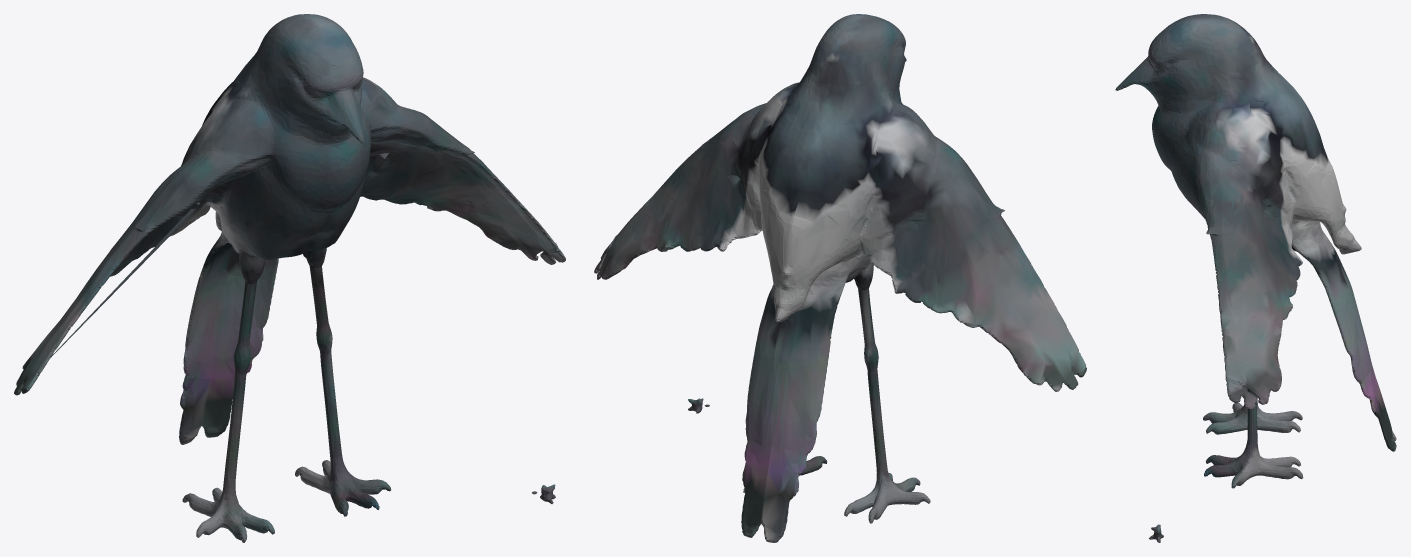
File: tally-color.glb
3 views of the same model, side by side, from view 1: azimuth 30°, elevation 25°; view 2: azimuth 150°, elevation 25°; view 3: azimuth 270°, elevation 25° (orthographic). The views are drawn at different scales.
Parts seen in each view (by area): view 1: world; view 2: world; view 3: world.
Part boxes in pixels (x1,y1,x2,y2): world: (14,14,565,542); world: (594,14,1086,542); world: (1115,14,1396,542).
Size of the model in its own units: 1.96 by 1.76 by 1.04.
